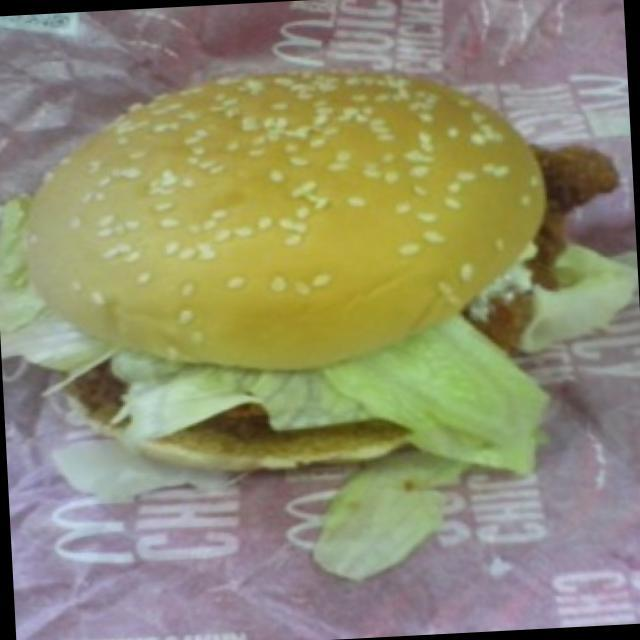Hamburger: (31, 61, 558, 477)
